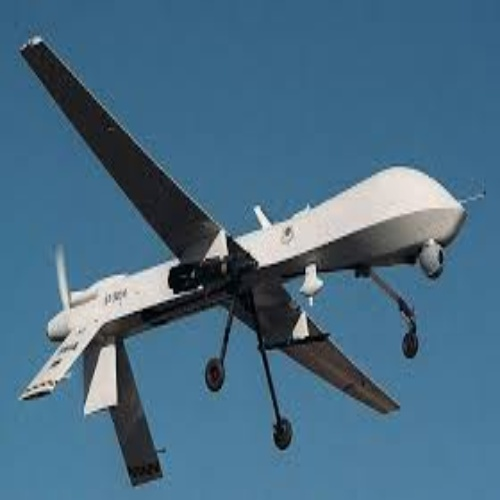uav496: (15, 35, 472, 487)
